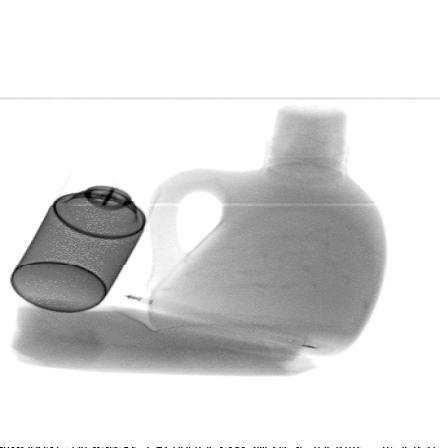Sprayer: (8, 159, 165, 315)
